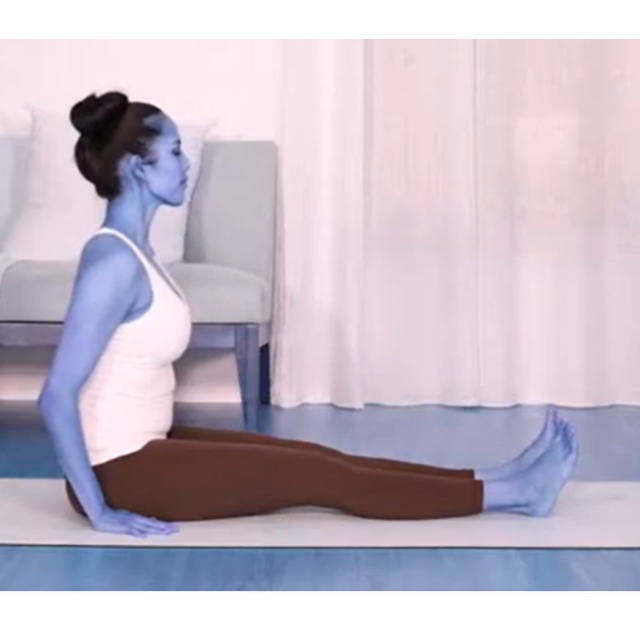Staff_Pose: (36, 91, 586, 541)
